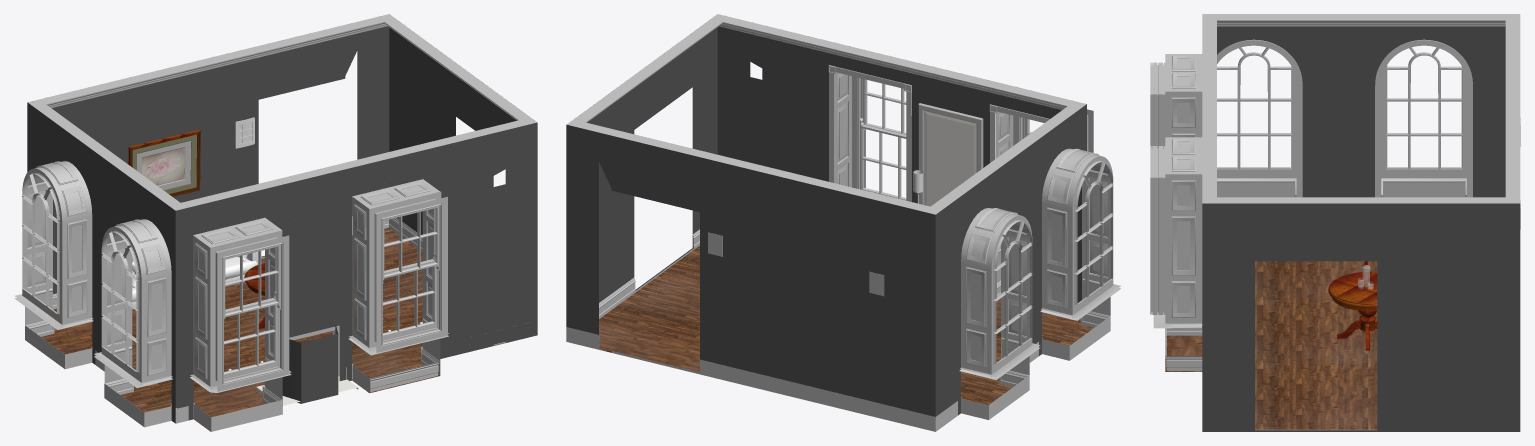
Rendered from big_house_lr.glb.
3 renders of one model, left to right at view 1: azimuth 30°, elevation 25°; view 2: azimuth 150°, elevation 25°; view 3: azimuth 270°, elevation 25°, orthographic. The views are drawn at different scales.
Parts seen in each view (by area): view 1: 33_Walls, 32_Floor, 27_Paneling, 35_Paneling, 00_Paneling, 36_Paneling, 20_Paneling, 21_Paneling, 15_Paneling, 16_Paneling, 26_Walls, 18_Paneling (+9 smaller); view 2: 33_Walls, 35_Paneling, 27_Paneling, 00_Paneling, 32_Floor, 36_Paneling, 29_Mirror, 20_Paneling, 21_Paneling, 30_Paneling, 22_Paneling, 15_Paneling (+3 smaller); view 3: 33_Walls, 32_Floor, 35_Paneling, 21_Paneling, 00_Paneling, 27_Paneling, 16_Paneling, 20_Paneling, 34_MattePaint, 62_TableWood, 15_Paneling, 36_Paneling (+1 smaller).
Part boxes in pixels (<box>): 33_Walls: <box>27,26,537,423</box>; 32_Floor: <box>41,227,505,431</box>; 27_Paneling: <box>94,219,177,423</box>; 35_Paneling: <box>28,14,537,210</box>; 00_Paneling: <box>14,161,93,347</box>; 36_Paneling: <box>25,218,505,431</box>; 20_Paneling: <box>352,191,447,379</box>; 21_Paneling: <box>348,179,448,355</box>; 15_Paneling: <box>193,230,289,417</box>; 16_Paneling: <box>190,217,291,392</box>; 26_Walls: <box>282,325,338,403</box>; 18_Paneling: <box>224,291,278,379</box>; 33_Walls: <box>566,26,1086,416</box>; 35_Paneling: <box>567,14,1086,214</box>; 27_Paneling: <box>1040,148,1121,339</box>; 00_Paneling: <box>959,208,1040,398</box>; 32_Floor: <box>599,245,1093,404</box>; 36_Paneling: <box>566,229,1110,431</box>; 29_Mirror: <box>924,111,976,206</box>; 20_Paneling: <box>828,65,911,201</box>; 21_Paneling: <box>834,72,851,187</box>; 30_Paneling: <box>918,103,983,204</box>; 22_Paneling: <box>860,118,906,200</box>; 15_Paneling: <box>989,104,1093,296</box>; 33_Walls: <box>1202,26,1520,431</box>; 32_Floor: <box>1165,261,1377,429</box>; 35_Paneling: <box>1202,14,1520,203</box>; 21_Paneling: <box>1153,137,1202,328</box>; 00_Paneling: <box>1375,39,1472,197</box>; 27_Paneling: <box>1217,39,1302,197</box>; 16_Paneling: <box>1165,54,1202,137</box>; 20_Paneling: <box>1150,146,1165,314</box>; 34_MattePaint: <box>1217,183,1466,197</box>; 62_TableWood: <box>1328,272,1377,310</box>; 15_Paneling: <box>1150,62,1165,148</box>; 36_Paneling: <box>1165,328,1376,430</box>.
Bounding box in the file's own units: 5.64 × 2.88 × 4.23.
Materials: 15 (3 with a texture image).
